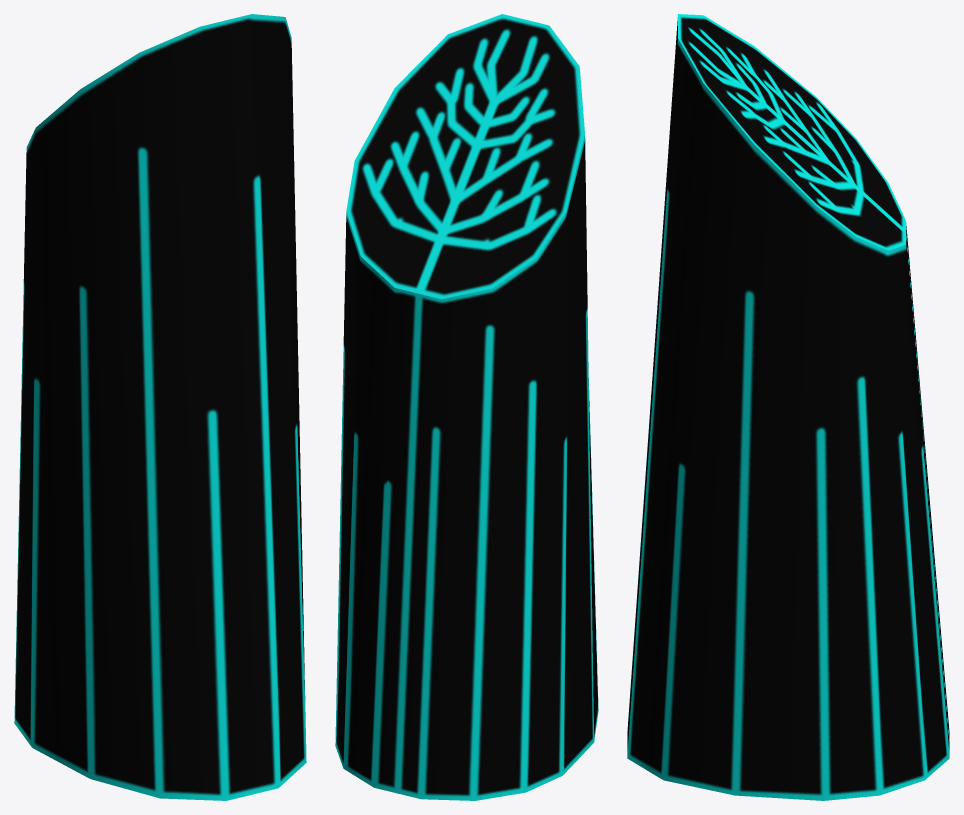
File: SM_City02.fbx
The picture shows the model from 3 angles, left to right: view 1: azimuth 30°, elevation 25°; view 2: azimuth 150°, elevation 25°; view 3: azimuth 270°, elevation 25°; orthographic projection. The views are drawn at different scales.
Parts seen in each view (by area): view 1: SM_City02; view 2: SM_City02; view 3: SM_City02.
Part boxes in pixels (x1=…): SM_City02: x1=14, y1=14, x2=306, y2=800; SM_City02: x1=335, y1=14, x2=598, y2=800; SM_City02: x1=627, y1=14, x2=949, y2=800.
Bounding box in the file's own units: 500 × 1537 × 624.
1 material, 1 textured.
